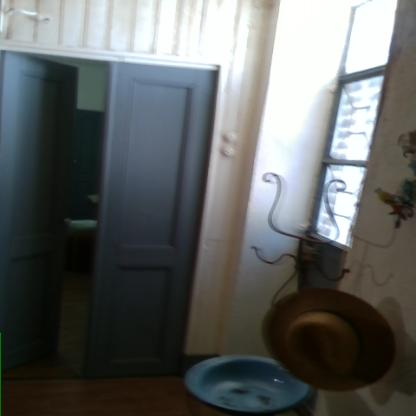semi: (1, 42, 224, 384)
